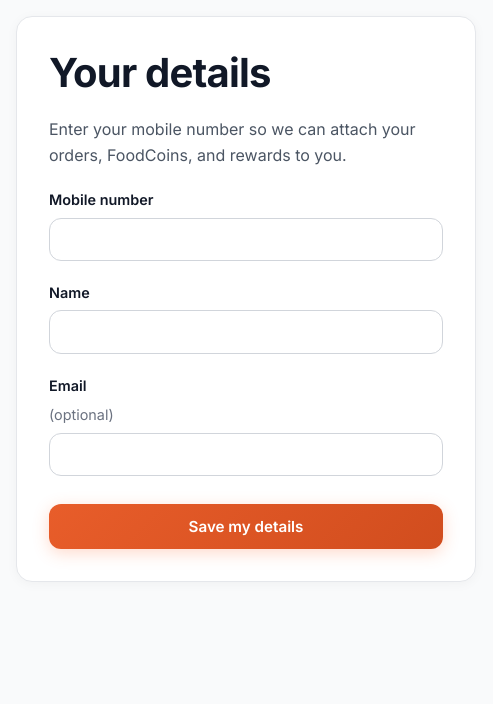
Scenario: CustomerForm success › registers and stores the returned customer as the active identity
This screenshot has width=493, height=704.
Type "9876543210" into the field with test id "profile-mobile".
click(246, 239); type("9876543210")  # box [49,218,443,261]
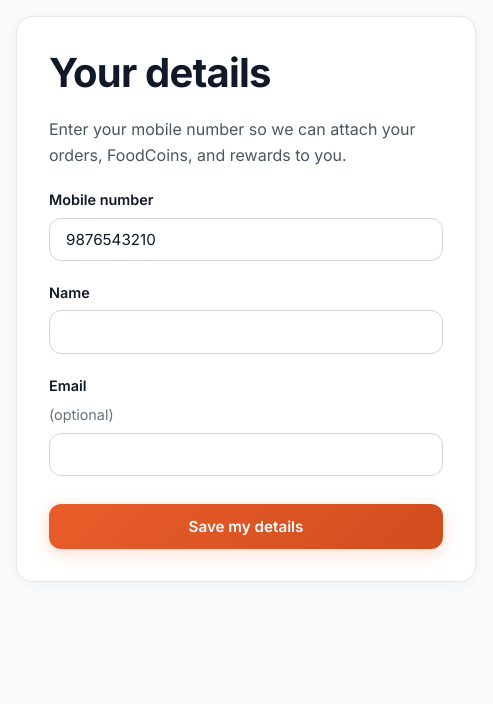
Type "Asha" into the field with test id "profile-name".
click(246, 332); type("Asha")  # box [49,310,443,354]
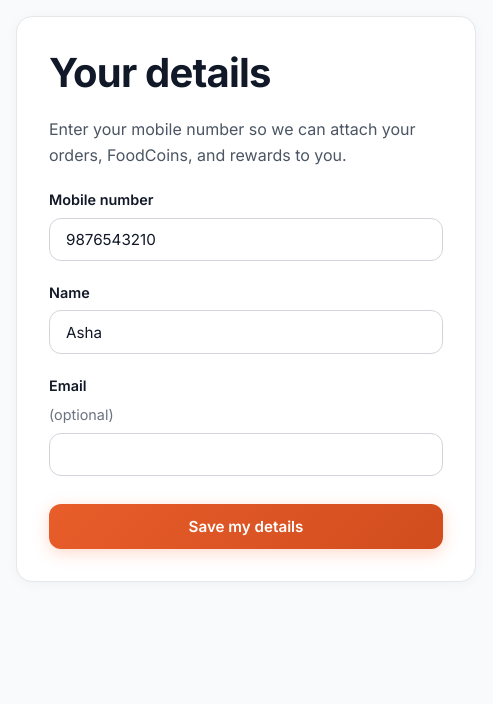
Click the button with test id "profile-submit".
click(246, 526)  # box [49,504,443,549]
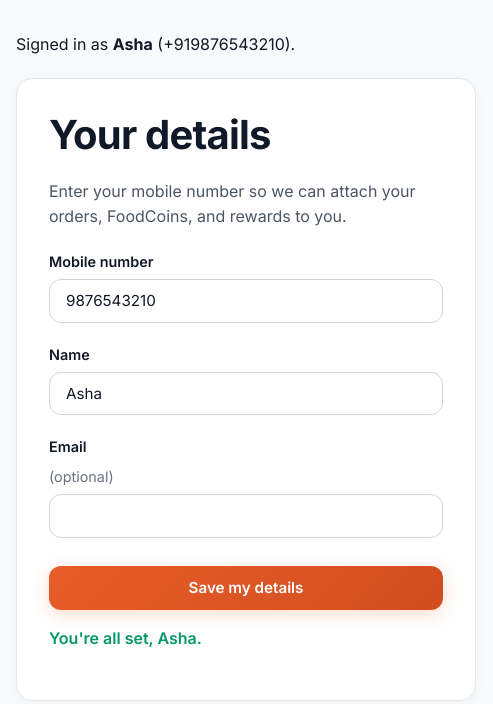
Now the message with test id "profile-saved" shows "Asha", box [157,628,197,648]
